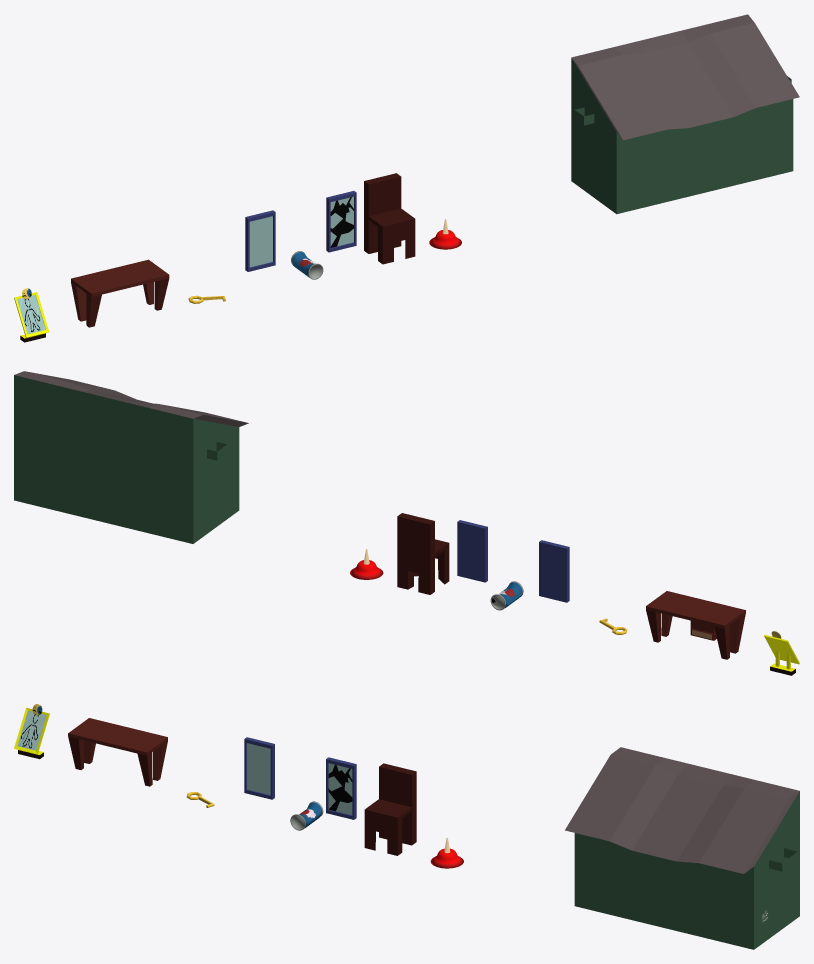
Rendered from Props.glb.
3 renders of one model, top to bottom at view 1: azimuth 30°, elevation 25°; view 2: azimuth 150°, elevation 25°; view 3: azimuth 330°, elevation 25°, orthographic.
Visible parts, largest first — view 1: Cube, Shitty chair, Desk, Broken Mirror, Mirror clue, Mirror; view 2: Cube, Desk, Shitty chair, Mirror clue, Broken Mirror, Mirror, Soda Can; view 3: Cube, Shitty chair, Desk, Broken Mirror, Mirror clue, Mirror, Soda Can, Candy Apple.
Part boxes in pixels (box(x1,y1,x2,y2)): Cube: box(571, 14, 799, 214); Shitty chair: box(364, 173, 415, 264); Desk: box(71, 259, 169, 327); Broken Mirror: box(326, 191, 356, 252); Mirror clue: box(245, 210, 275, 271); Mirror: box(14, 288, 49, 342); Cube: box(14, 371, 248, 543); Desk: box(646, 591, 745, 659); Shitty chair: box(397, 513, 449, 594); Mirror clue: box(539, 540, 569, 602); Broken Mirror: box(457, 520, 487, 582); Mirror: box(764, 631, 799, 675); Soda Can: box(490, 581, 523, 610); Cube: box(565, 747, 799, 949); Shitty chair: box(364, 763, 416, 855); Desk: box(68, 718, 167, 786); Broken Mirror: box(326, 757, 356, 819); Mirror clue: box(244, 737, 274, 799); Mirror: box(14, 704, 49, 759); Soda Can: box(290, 801, 323, 830); Candy Apple: box(430, 838, 463, 868).
Bounding box in the file's own units: 142 × 23.85 × 17.27.
3 materials, 3 textured.
